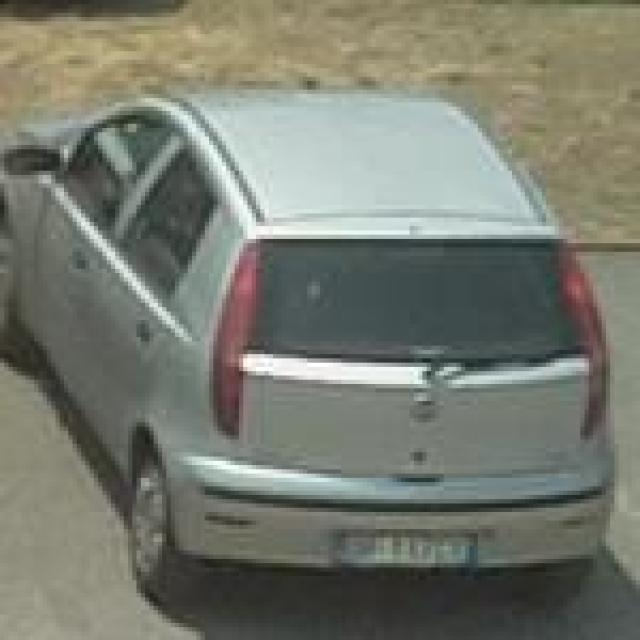cars-sUYr: (0, 52, 640, 620)
